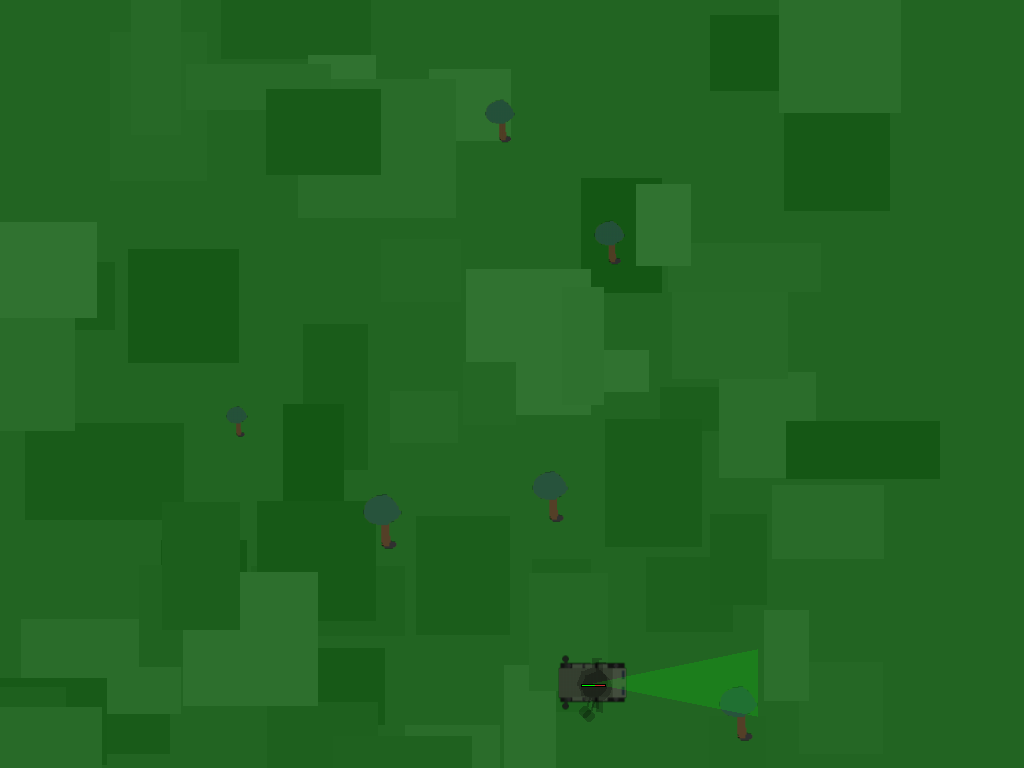RadarBuilding: (553, 643, 632, 722)
